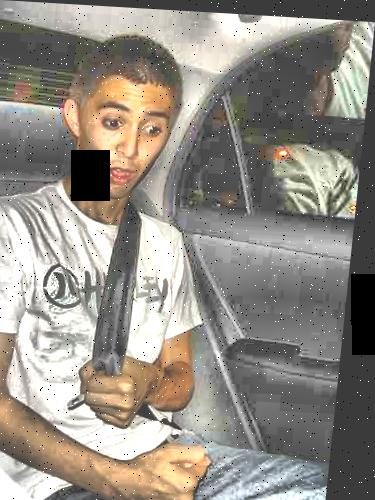seatbelt: (78, 172, 162, 443)
